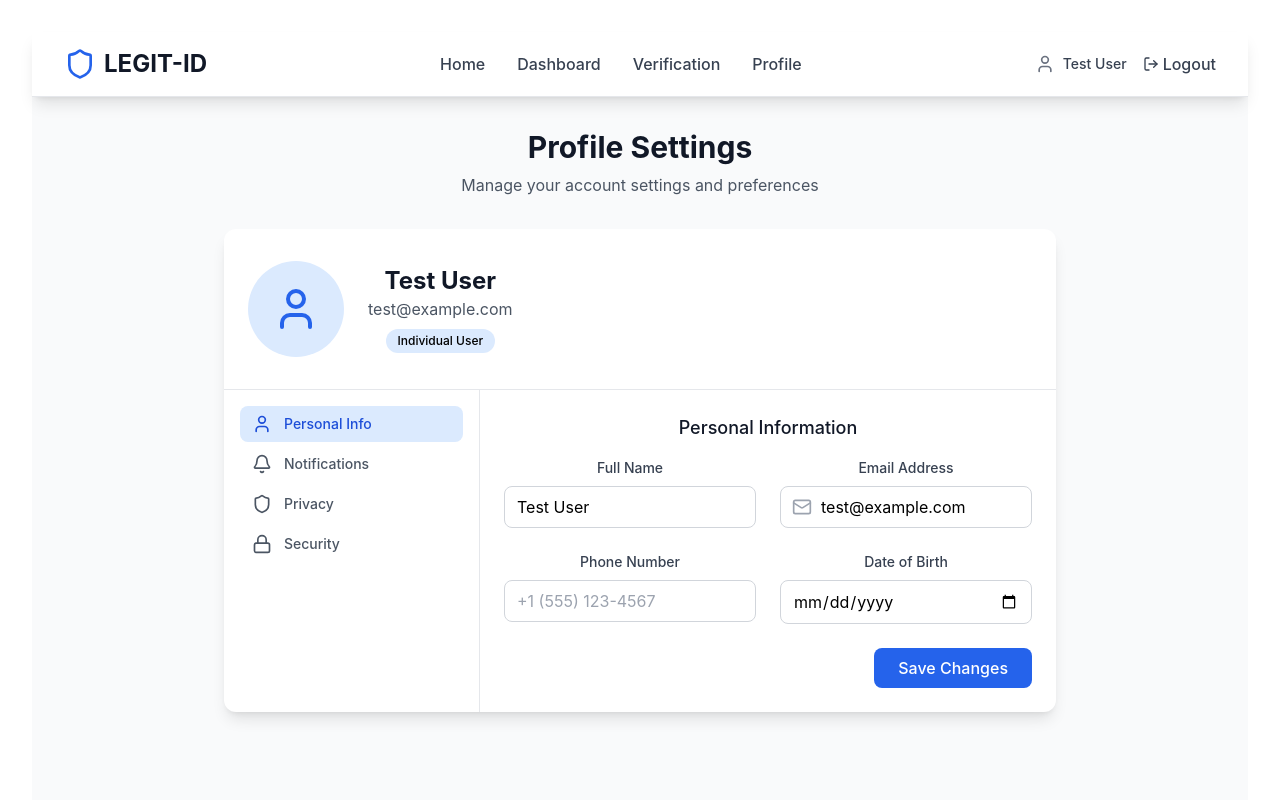
ProfilePage › switches to security tab
The width and height of the screenshot is (1280, 800).
Click the button "Security". click: (352, 544)
box: [240,526,463,562]
(page scrolled)
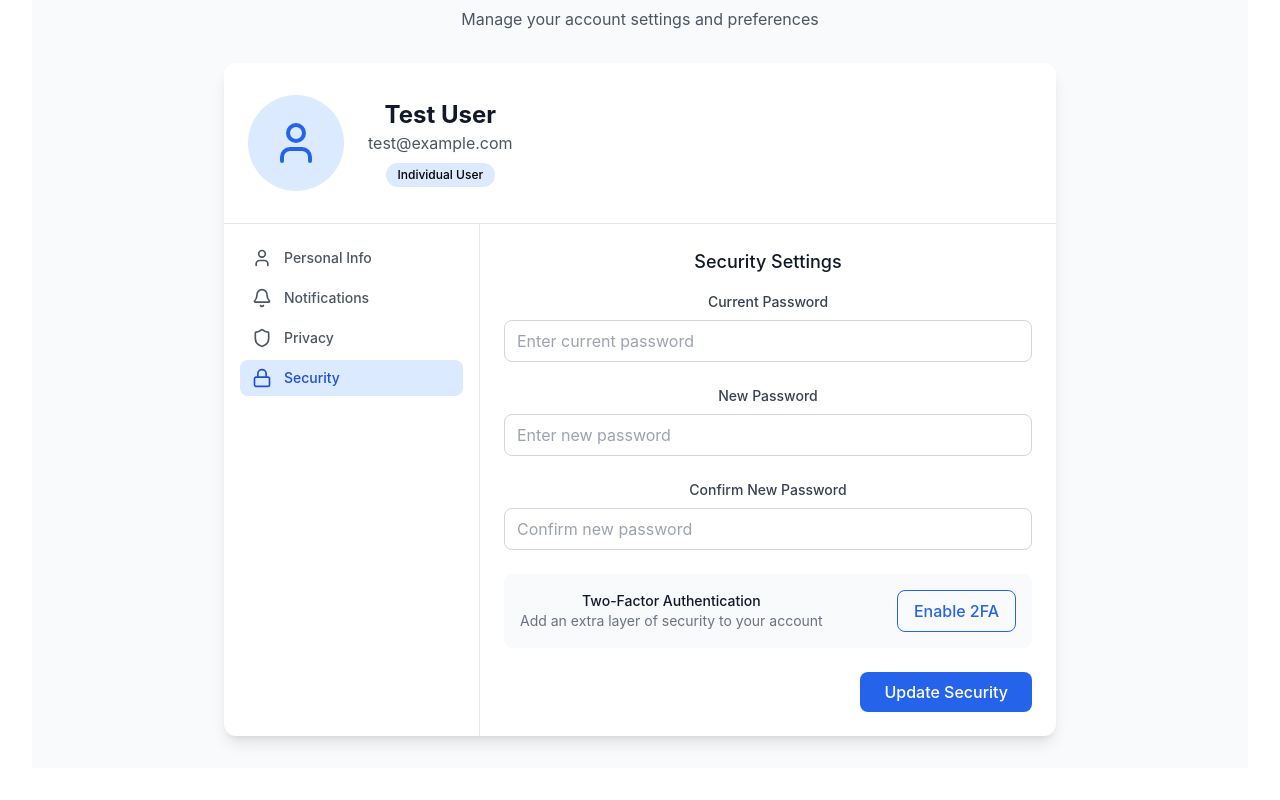
Expected: the password field labelled "Current Password" is shown, [504,320,1032,362]
Expected: the password field labelled "New Password" is shown, [504,414,1032,456]
Expected: the text "Two-Factor Authentication" is shown, [582,592,761,609]
